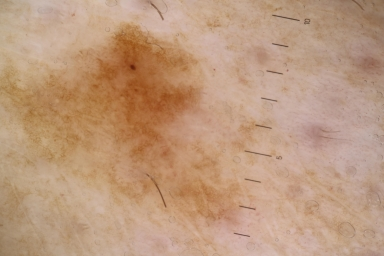melanoma: (20, 25, 242, 227)
